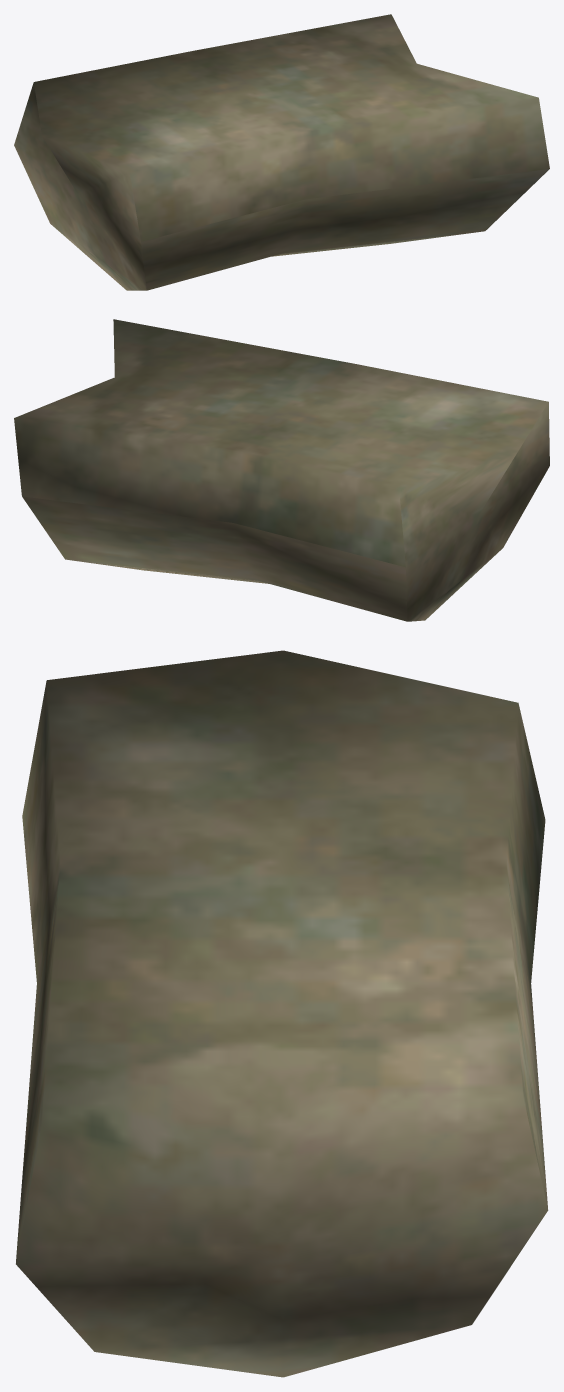
The model's file is ANIMATEDINSTANCES_CAVE_BRIDGE_202__AI.fbx.
3 views of the same model, one above another, from view 1: azimuth 30°, elevation 25°; view 2: azimuth 150°, elevation 25°; view 3: azimuth 270°, elevation 25° (orthographic). The views are drawn at different scales.
Visible parts, largest first — view 1: ANIMATEDINSTANCES_CAVE_BRIDGE_202__AI; view 2: ANIMATEDINSTANCES_CAVE_BRIDGE_202__AI; view 3: ANIMATEDINSTANCES_CAVE_BRIDGE_202__AI.
Part boxes in pixels (x1,y1,x2,y2): ANIMATEDINSTANCES_CAVE_BRIDGE_202__AI: [14, 14, 549, 290]; ANIMATEDINSTANCES_CAVE_BRIDGE_202__AI: [14, 319, 549, 621]; ANIMATEDINSTANCES_CAVE_BRIDGE_202__AI: [16, 650, 548, 1377].
Bounding box in the file's own units: 15166 × 6346 × 7928.
1 material, 1 textured.
